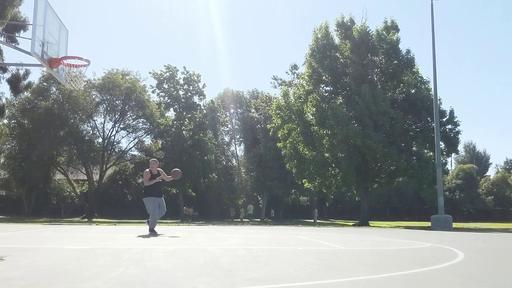ball: (170, 168, 183, 180)
human: (144, 158, 174, 236)
rim: (60, 55, 90, 90)
